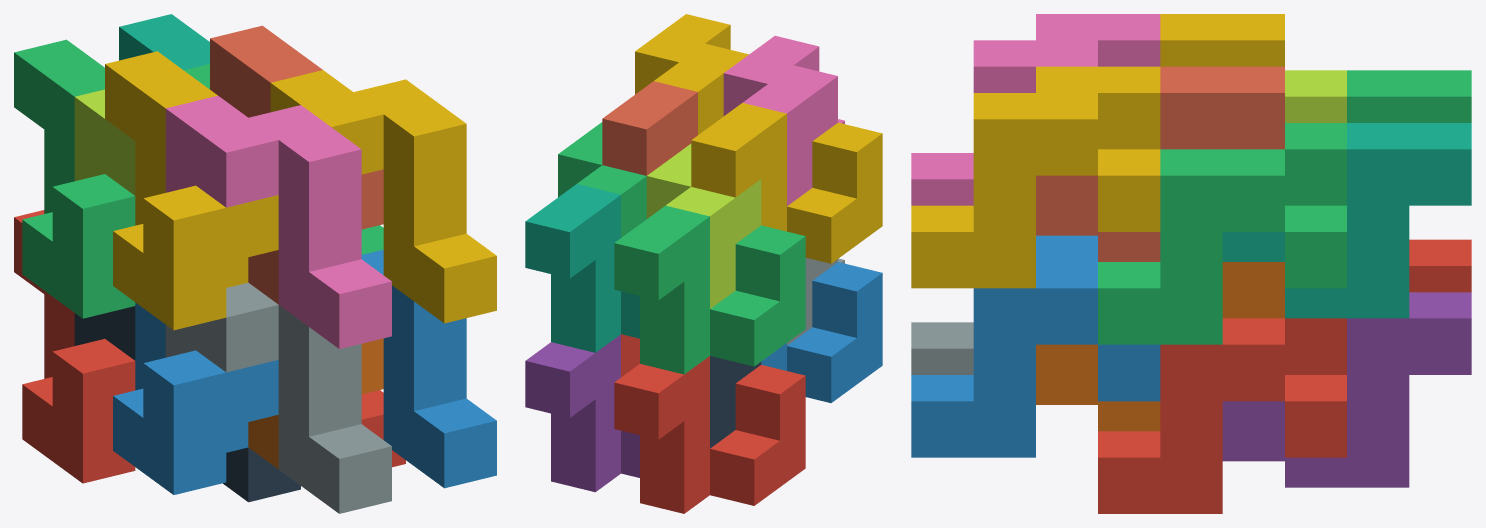
Rendered from tiling.obj.
3 views of the same model, side by side, from view 1: azimuth 30°, elevation 25°; view 2: azimuth 150°, elevation 25°; view 3: azimuth 270°, elevation 25° (orthographic). The views are drawn at different scales.
Visible parts, largest first — view 1: copy_2_domain_4, copy_2_domain_8, copy_1_domain_4, copy_2_domain_2, copy_1_domain_3, copy_1_domain_2, copy_2_domain_6, copy_1_domain_1, copy_1_domain_8, copy_2_domain_1, copy_2_domain_3, copy_1_domain_7 (+3 smaller); view 2: copy_1_domain_3, copy_1_domain_1, copy_1_domain_4, copy_1_domain_7, copy_1_domain_5, copy_1_domain_2, copy_2_domain_4, copy_2_domain_8, copy_2_domain_3, copy_1_domain_8, copy_2_domain_7, copy_2_domain_1 (+2 smaller); view 3: copy_2_domain_8, copy_2_domain_7, copy_2_domain_5, copy_2_domain_6, copy_1_domain_5, copy_1_domain_7, copy_1_domain_8, copy_2_domain_4, copy_1_domain_6, copy_1_domain_3, copy_1_domain_4, copy_1_domain_1 (+2 smaller).
Part boxes in pixels (<box>): copy_2_domain_4: <box>165,95,391,348</box>; copy_2_domain_8: <box>270,70,496,323</box>; copy_1_domain_4: <box>105,51,278,330</box>; copy_2_domain_2: <box>165,282,391,513</box>; copy_1_domain_3: <box>14,39,135,318</box>; copy_1_domain_2: <box>113,302,278,494</box>; copy_2_domain_6: <box>361,249,496,488</box>; copy_1_domain_1: <box>14,210,135,483</box>; copy_1_domain_8: <box>210,25,383,304</box>; copy_2_domain_1: <box>74,306,300,502</box>; copy_2_domain_3: <box>74,89,135,195</box>; copy_1_domain_7: <box>119,14,209,70</box>; copy_1_domain_3: <box>614,205,805,374</box>; copy_1_domain_1: <box>614,356,805,513</box>; copy_1_domain_4: <box>691,103,882,263</box>; copy_1_domain_7: <box>525,184,639,352</box>; copy_1_domain_5: <box>525,334,639,492</box>; copy_1_domain_2: <box>761,262,882,402</box>; copy_2_domain_4: <box>723,35,844,205</box>; copy_2_domain_8: <box>635,14,748,134</box>; copy_2_domain_3: <box>646,143,761,308</box>; copy_1_domain_8: <box>602,81,697,175</box>; copy_2_domain_7: <box>558,122,646,237</box>; copy_2_domain_1: <box>710,356,761,448</box>; copy_2_domain_8: <box>911,66,1160,288</box>; copy_2_domain_7: <box>1098,123,1346,344</box>; copy_2_domain_5: <box>1098,318,1346,513</box>; copy_2_domain_6: <box>911,235,1160,457</box>; copy_1_domain_5: <box>1222,292,1471,487</box>; copy_1_domain_7: <box>1222,123,1471,318</box>; copy_1_domain_8: <box>1036,66,1284,261</box>; copy_2_domain_4: <box>911,14,1160,205</box>; copy_1_domain_6: <box>1036,262,1284,431</box>; copy_1_domain_3: <box>1347,70,1471,122</box>; copy_1_domain_4: <box>1160,14,1284,66</box>; copy_1_domain_1: <box>1409,239,1471,292</box>.
Bounding box in the file's own units: 5 × 7 × 9.
